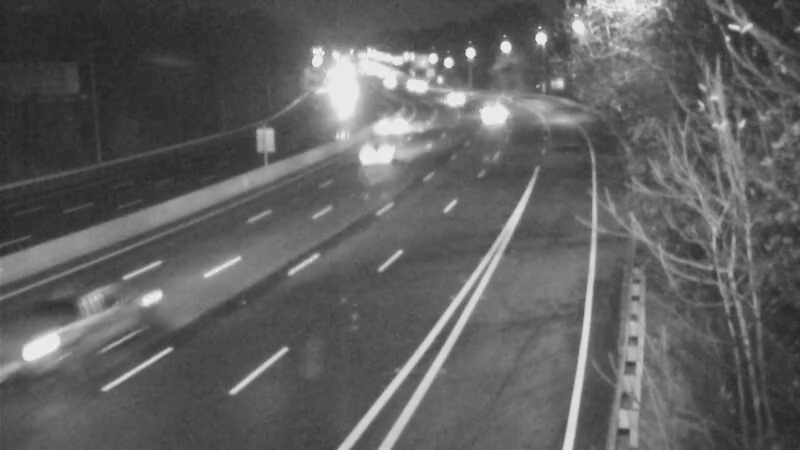vehicle: (1, 296, 101, 406), (342, 116, 422, 196), (426, 73, 476, 123), (460, 87, 510, 137), (372, 100, 422, 150)
